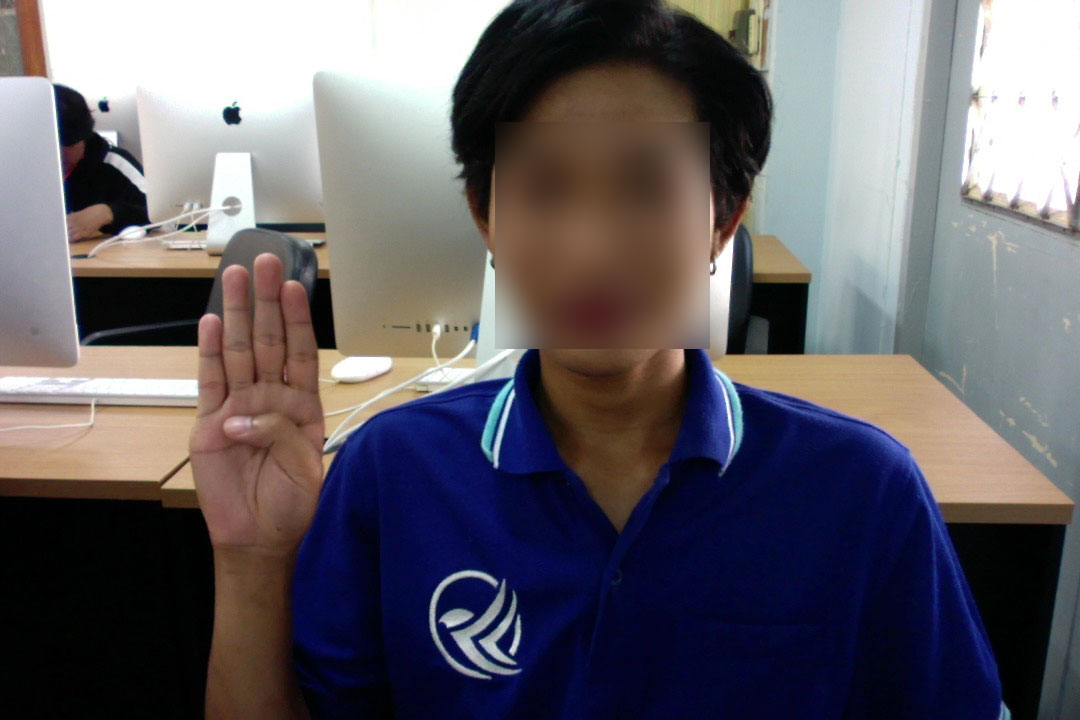bor: (186, 245, 333, 561)
